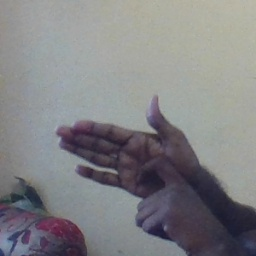R: (54, 95, 199, 239)
